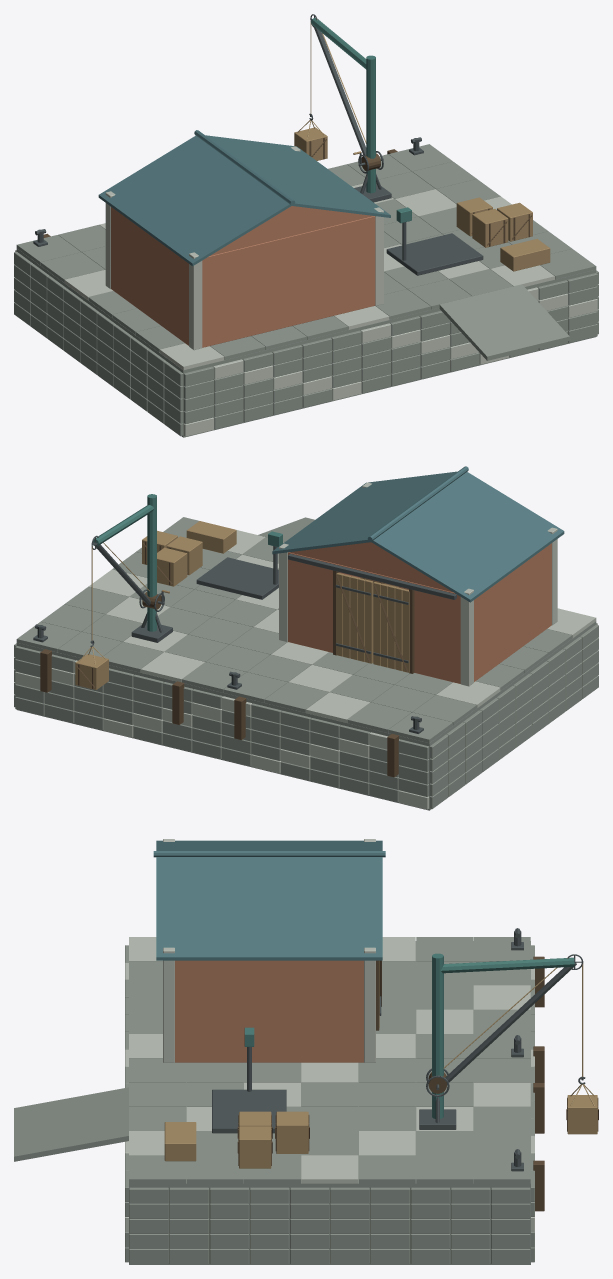
The model's file is harbor.glb.
The picture shows the model from 3 angles, top to bottom: view 1: azimuth 30°, elevation 25°; view 2: azimuth 150°, elevation 25°; view 3: azimuth 270°, elevation 25°; orthographic projection. The views are drawn at different scales.
Visible parts, largest first — view 1: QuayPaving_mesh, WarehouseWalls_mesh, WarehouseRoof_mesh, QuayCourse.004_mesh, QuayCourse_mesh, QuayCourse.001_mesh, QuayCourse.003_mesh, QuayCourse.002_mesh, ShoreRamp_mesh, CargoYardUpgrade_mesh, CraneStructure_mesh, WarehouseFrame_mesh (+3 smaller); view 2: QuayPaving_mesh, WarehouseRoof_mesh, WarehouseWalls_mesh, QuayCourse_mesh, QuayCourse.001_mesh, QuayCourse.004_mesh, QuayCourse.002_mesh, QuayCourse.003_mesh, CargoYardUpgrade_mesh, WarehouseFrame_mesh, WarehouseDoor.001_mesh, WarehouseDoor_mesh (+6 smaller); view 3: QuayPaving_mesh, WarehouseRoof_mesh, WarehouseWalls_mesh, QuayCourse.004_mesh, QuayCourse.003_mesh, ShoreRamp_mesh, CargoYardUpgrade_mesh, QuayCourse_mesh, QuayCourse.001_mesh, QuayCourse.002_mesh, CraneStructure_mesh, Foundation_mesh (+4 smaller).
Boxes of the visible parts, left/top/right/bottom form: QuayPaving_mesh: left=16, top=144, right=596, bottom=370; WarehouseWalls_mesh: left=111, top=207, right=375, bottom=347; WarehouseRoof_mesh: left=98, top=130, right=390, bottom=266; QuayCourse.004_mesh: left=14, top=250, right=598, bottom=386; QuayCourse_mesh: left=14, top=302, right=598, bottom=436; QuayCourse.001_mesh: left=14, top=290, right=598, bottom=424; QuayCourse.003_mesh: left=14, top=265, right=598, bottom=399; QuayCourse.002_mesh: left=14, top=277, right=598, bottom=411; ShoreRamp_mesh: left=439, top=284, right=569, bottom=360; CargoYardUpgrade_mesh: left=386, top=197, right=532, bottom=275; CraneStructure_mesh: left=311, top=18, right=391, bottom=202; WarehouseFrame_mesh: left=105, top=146, right=383, bottom=350; QuayPaving_mesh: left=16, top=517, right=596, bottom=742; WarehouseRoof_mesh: left=272, top=466, right=564, bottom=602; WarehouseWalls_mesh: left=288, top=543, right=551, bottom=683; QuayCourse_mesh: left=14, top=675, right=598, bottom=809; QuayCourse.001_mesh: left=14, top=663, right=598, bottom=796; QuayCourse.004_mesh: left=14, top=623, right=598, bottom=759; QuayCourse.002_mesh: left=14, top=650, right=598, bottom=784; QuayCourse.003_mesh: left=14, top=637, right=598, bottom=771; CargoYardUpgrade_mesh: left=142, top=530, right=282, bottom=599; WarehouseFrame_mesh: left=279, top=482, right=557, bottom=686; WarehouseDoor.001_mesh: left=335, top=573, right=373, bottom=663; WarehouseDoor_mesh: left=373, top=582, right=409, bottom=672; QuayPaving_mesh: left=129, top=937, right=530, bottom=1183; WarehouseRoof_mesh: left=153, top=840, right=385, bottom=960; WarehouseWalls_mesh: left=175, top=960, right=363, bottom=1062; QuayCourse.004_mesh: left=125, top=945, right=534, bottom=1203; QuayCourse.003_mesh: left=125, top=1202, right=534, bottom=1218; ShoreRamp_mesh: left=14, top=1087, right=128, bottom=1161; CargoYardUpgrade_mesh: left=212, top=1027, right=309, bottom=1168; QuayCourse_mesh: left=125, top=1247, right=534, bottom=1263; QuayCourse.001_mesh: left=125, top=1232, right=534, bottom=1248; QuayCourse.002_mesh: left=125, top=1217, right=534, bottom=1233; CraneStructure_mesh: left=419, top=953, right=576, bottom=1129; Foundation_mesh: left=129, top=941, right=530, bottom=1264.
Size of the model in its own units: 10.14 by 4.87 by 10.19.
